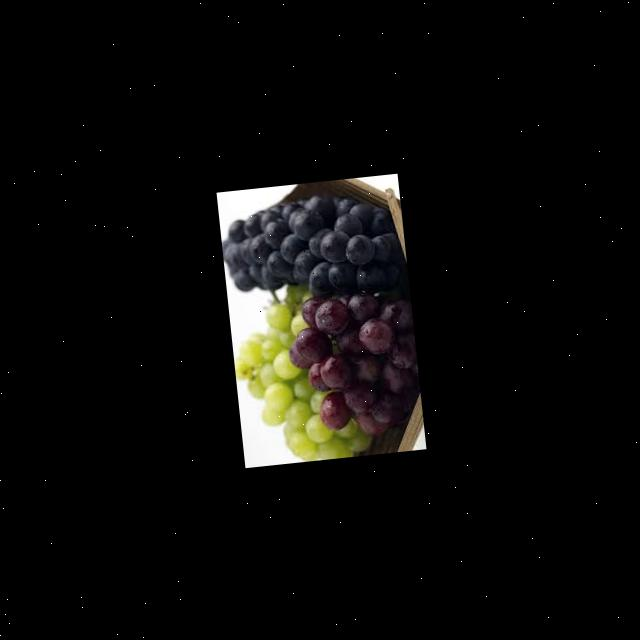grape: (216, 188, 402, 304), (278, 290, 418, 440)
